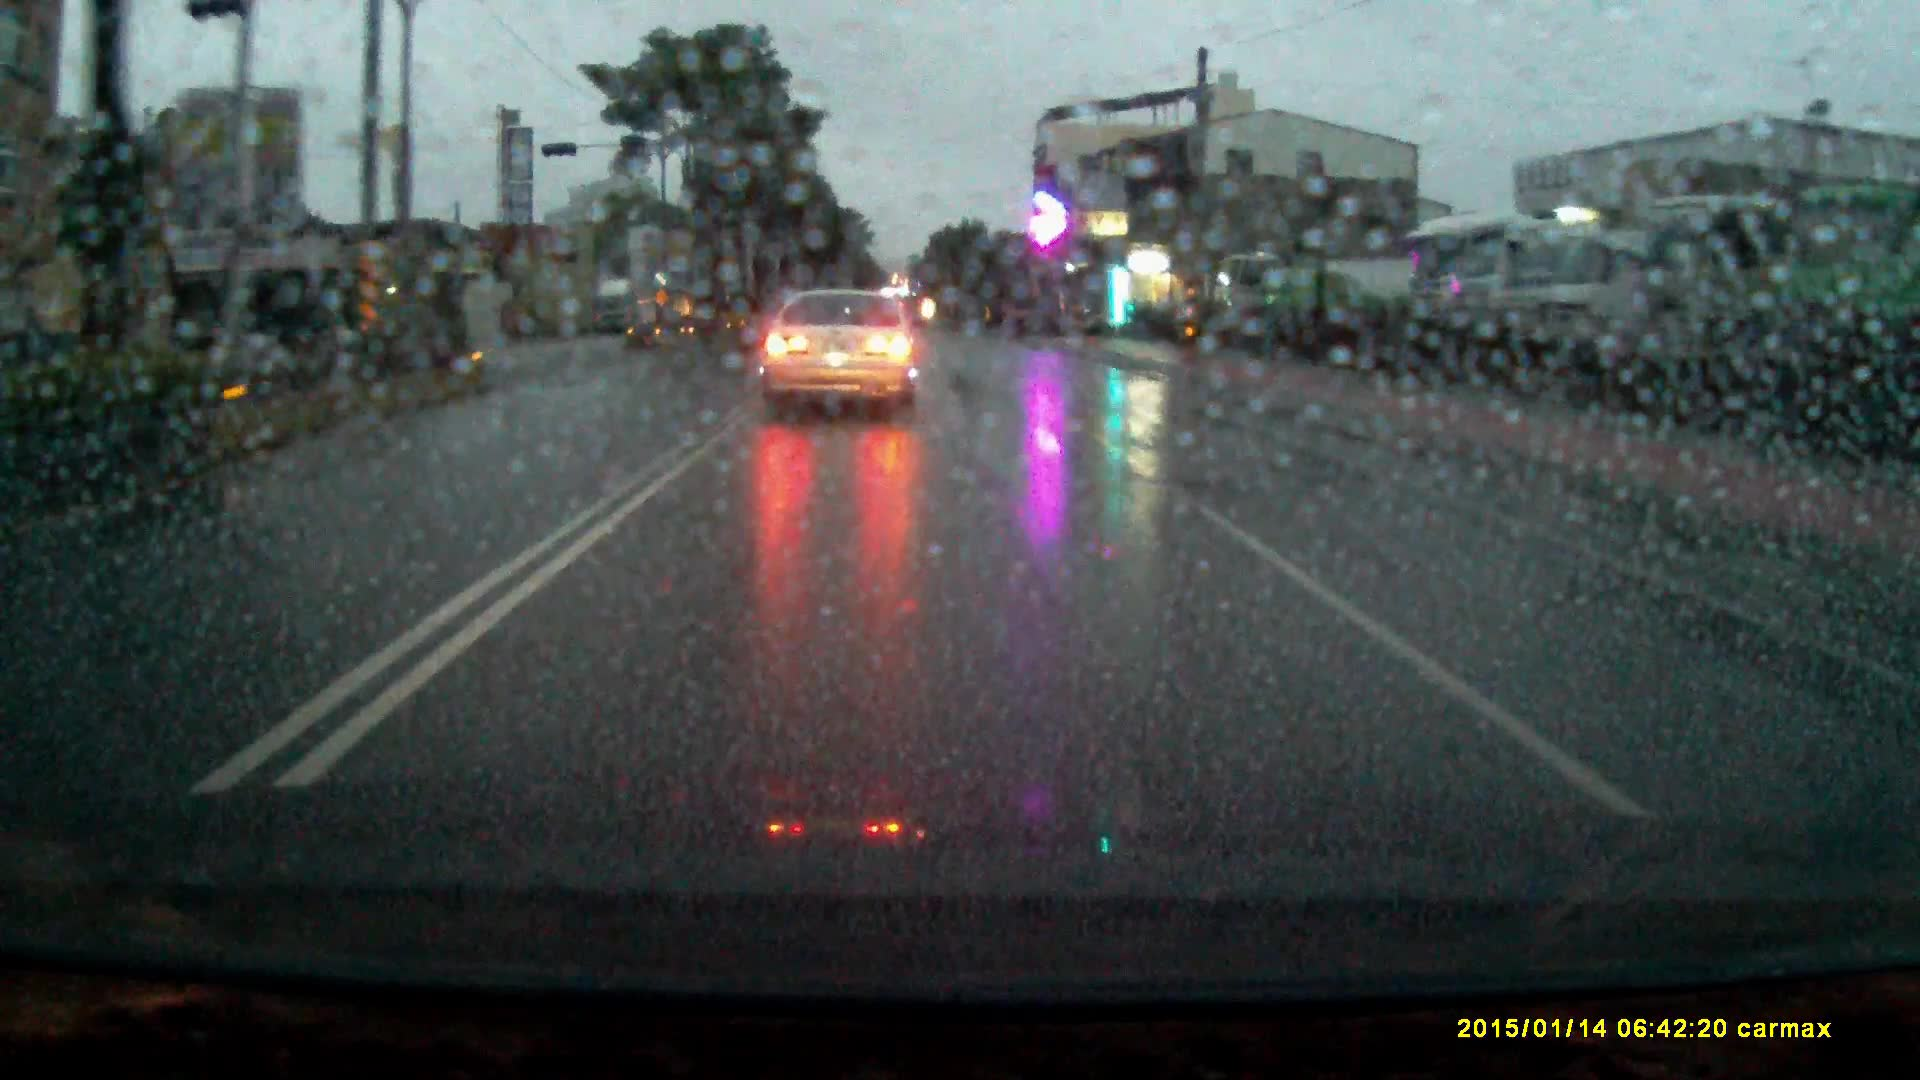vehicle: (1753, 186, 1920, 459), (1654, 190, 1803, 409), (1495, 224, 1651, 388), (760, 289, 923, 421), (1406, 218, 1511, 355), (1259, 260, 1416, 335), (1215, 252, 1284, 326), (593, 278, 655, 336)
